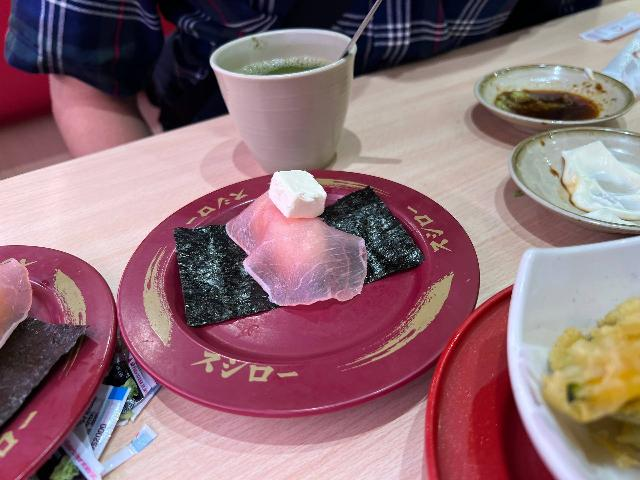janred: (140, 167, 465, 393), (469, 288, 628, 480), (0, 240, 110, 448)
